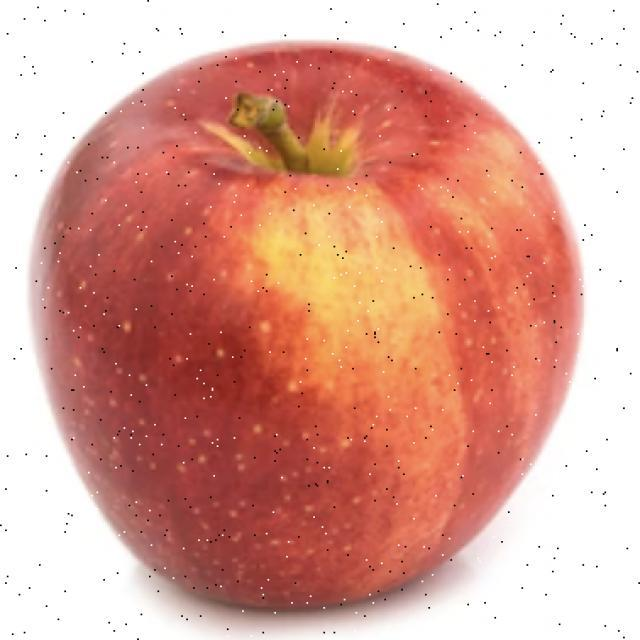Fresh Apple: (75, 53, 545, 610)
